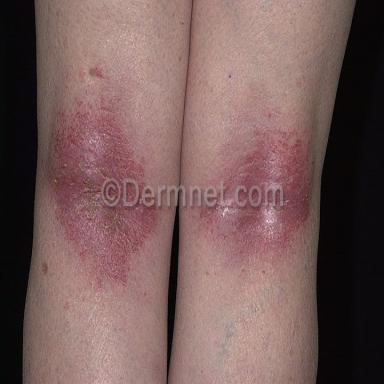eczema: (49, 101, 157, 287), (199, 129, 311, 249)
